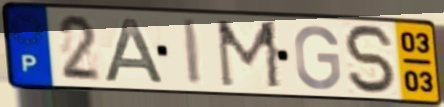2: (55, 13, 103, 85)
A: (101, 15, 169, 86)
G: (291, 23, 343, 93)
I: (180, 17, 204, 88)
M: (213, 18, 285, 92)
S: (341, 22, 401, 97)
